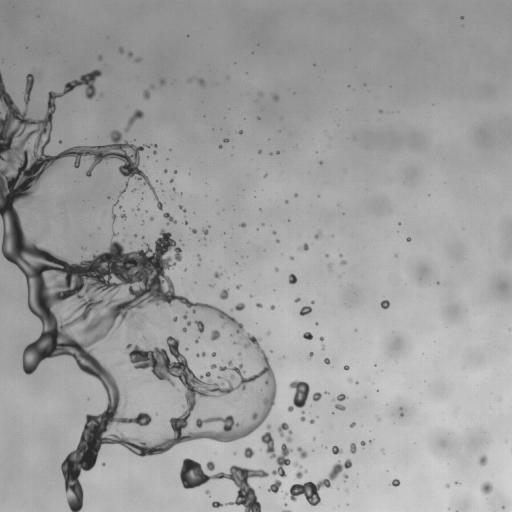droplet: (287, 380, 310, 411), (277, 422, 291, 442), (293, 462, 307, 479), (268, 480, 281, 493), (480, 481, 492, 494), (210, 329, 220, 341), (219, 288, 229, 299), (244, 447, 254, 458), (297, 447, 307, 458), (299, 306, 311, 315), (478, 455, 487, 466), (334, 393, 346, 401), (288, 274, 297, 284), (332, 445, 342, 454), (206, 461, 215, 471), (234, 302, 245, 310), (302, 332, 313, 340), (380, 300, 389, 309), (312, 392, 321, 401), (298, 243, 308, 250), (111, 211, 117, 222), (143, 90, 150, 99), (390, 479, 399, 486), (335, 404, 345, 410), (350, 443, 356, 453), (197, 78, 204, 86), (142, 336, 149, 344), (314, 231, 321, 238), (120, 212, 126, 219), (202, 228, 208, 235), (214, 272, 221, 278), (272, 94, 278, 100), (324, 358, 330, 364), (160, 78, 165, 84), (240, 222, 246, 227), (256, 302, 262, 307), (308, 352, 313, 358), (191, 228, 196, 233), (295, 297, 300, 302), (270, 305, 275, 310), (344, 365, 349, 370), (350, 422, 355, 427), (343, 474, 348, 479), (205, 490, 210, 495), (119, 47, 123, 53), (340, 260, 346, 264), (328, 263, 331, 270), (98, 55, 102, 60), (135, 58, 140, 62), (223, 138, 228, 142), (406, 237, 411, 241), (319, 337, 324, 341), (211, 352, 216, 356), (267, 424, 271, 429), (361, 441, 365, 446), (128, 52, 132, 56), (188, 78, 192, 82), (150, 85, 154, 89), (238, 130, 242, 134), (236, 284, 240, 288), (310, 419, 314, 423), (197, 255, 200, 260), (379, 109, 382, 113), (152, 144, 156, 147), (107, 195, 110, 199), (272, 231, 276, 234), (275, 267, 278, 271), (266, 331, 269, 335), (185, 346, 188, 350), (348, 378, 352, 381), (142, 380, 146, 383), (259, 92, 262, 95), (219, 145, 222, 148), (164, 169, 167, 172), (264, 174, 267, 177), (170, 179, 173, 182), (132, 188, 135, 191), (294, 193, 297, 196), (136, 206, 139, 209), (150, 217, 153, 220), (184, 221, 187, 224), (276, 239, 279, 242), (325, 254, 328, 257), (290, 256, 293, 259), (321, 346, 324, 349), (325, 391, 328, 394), (400, 413, 403, 416), (381, 449, 384, 452), (455, 481, 458, 484), (59, 140, 61, 143), (153, 151, 156, 153), (276, 151, 279, 153), (319, 161, 322, 163), (174, 170, 176, 173), (82, 247, 85, 249), (339, 254, 342, 256), (311, 301, 313, 304), (102, 463, 105, 465), (446, 484, 448, 487), (502, 506, 504, 509), (461, 16, 463, 18), (258, 150, 260, 152), (173, 188, 175, 190), (119, 206, 121, 208), (206, 341, 208, 343), (270, 350, 272, 352), (202, 407, 204, 409), (345, 489, 347, 491), (285, 503, 287, 505)
ligament: (0, 69, 276, 511), (179, 458, 268, 511), (283, 458, 351, 505), (261, 431, 292, 477), (124, 109, 143, 132), (163, 212, 176, 223), (58, 201, 64, 215), (196, 351, 206, 357), (300, 411, 305, 421), (179, 205, 186, 212), (282, 510, 290, 511)
